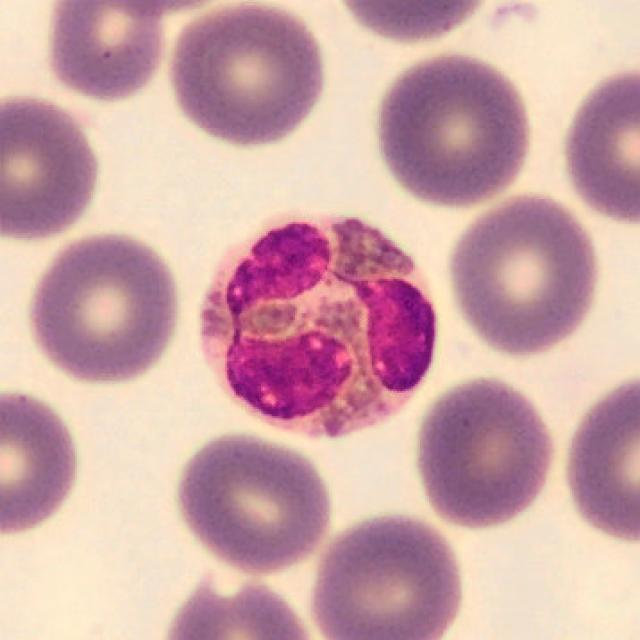Eosinofilo: (200, 213, 438, 439)
